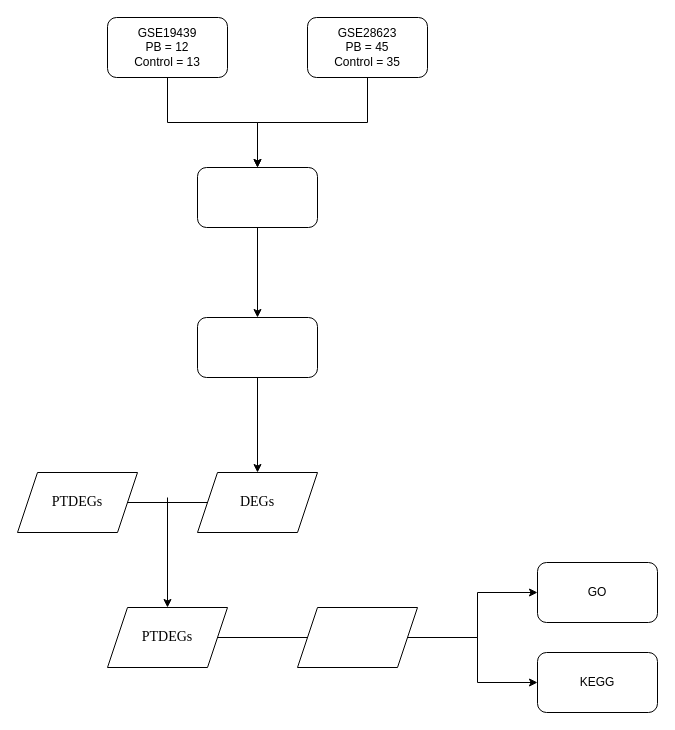
Image size: 675x730. Some labels were removed from this diagram. Each missing label, with the centre of its shape:
"Combined Dataset PB = 57 Control = 48" goes at (x=257, y=347).
"Data merge" goes at (x=257, y=197).
"Enrichment Analysis" goes at (x=357, y=637).
